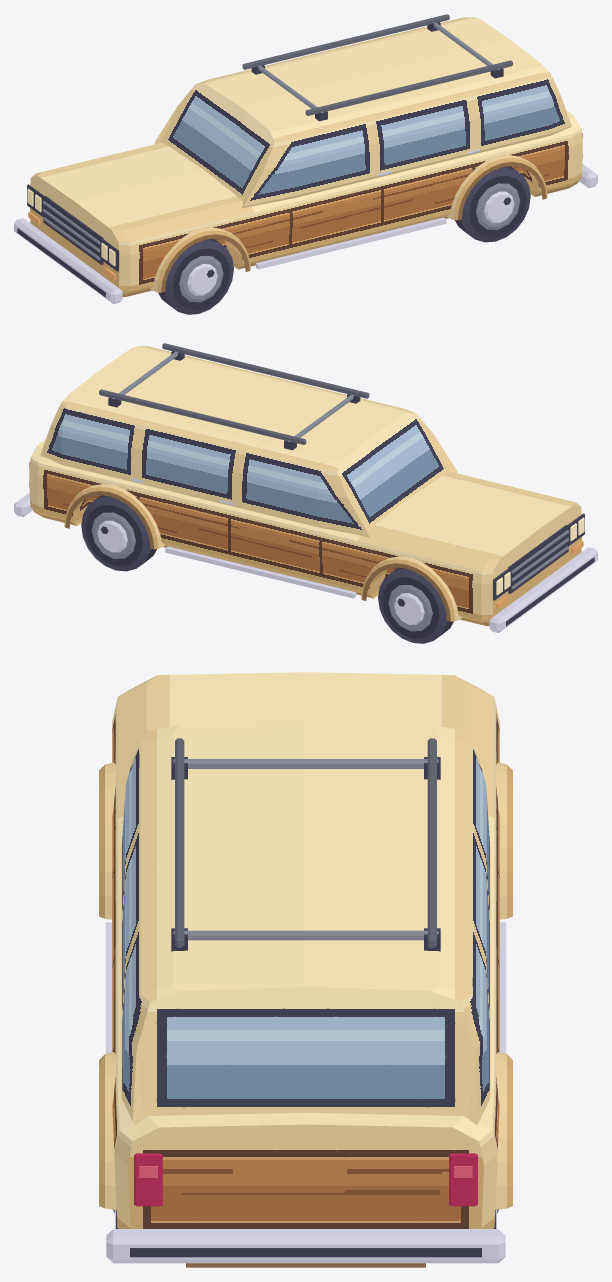
3 views of the same model, one above another, from view 1: azimuth 30°, elevation 25°; view 2: azimuth 150°, elevation 25°; view 3: azimuth 270°, elevation 25° (orthographic). The views are drawn at different scales.
Parts seen in each view (by area): view 1: Body_static, Wheel_FL_tire_hub, Wheel_RL_tire_hub; view 2: Body_static, Wheel_FR_tire_hub, Wheel_RR_tire_hub; view 3: Body_static.
Boxes of the visible parts, x1,y1,x2,y2 form: Body_static: [14, 14, 597, 303]; Wheel_FL_tire_hub: [158, 238, 233, 314]; Wheel_RL_tire_hub: [455, 166, 530, 242]; Body_static: [14, 343, 597, 632]; Wheel_FR_tire_hub: [378, 567, 453, 643]; Wheel_RR_tire_hub: [81, 495, 156, 571]; Body_static: [99, 672, 512, 1267].
Size of the model in its own units: 94.96 by 30.3 by 34.78.
Materials: 1 (1 with a texture image).
